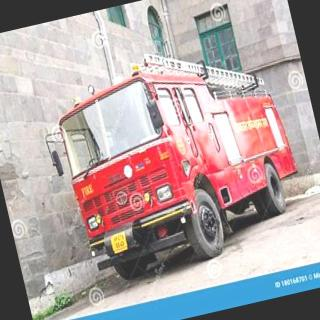Fire_truck: (30, 25, 312, 291)
